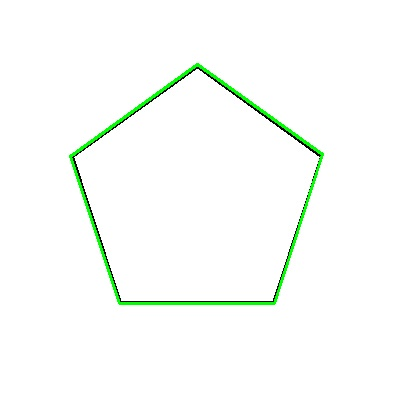line_segment: (70, 64, 323, 305)
